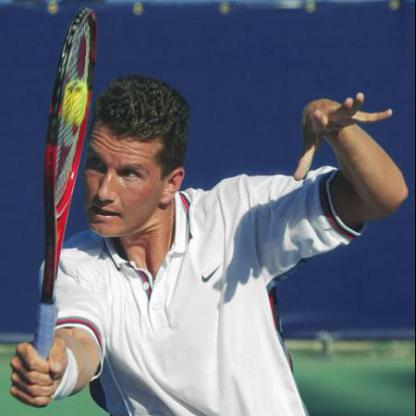face: (79, 96, 169, 243)
